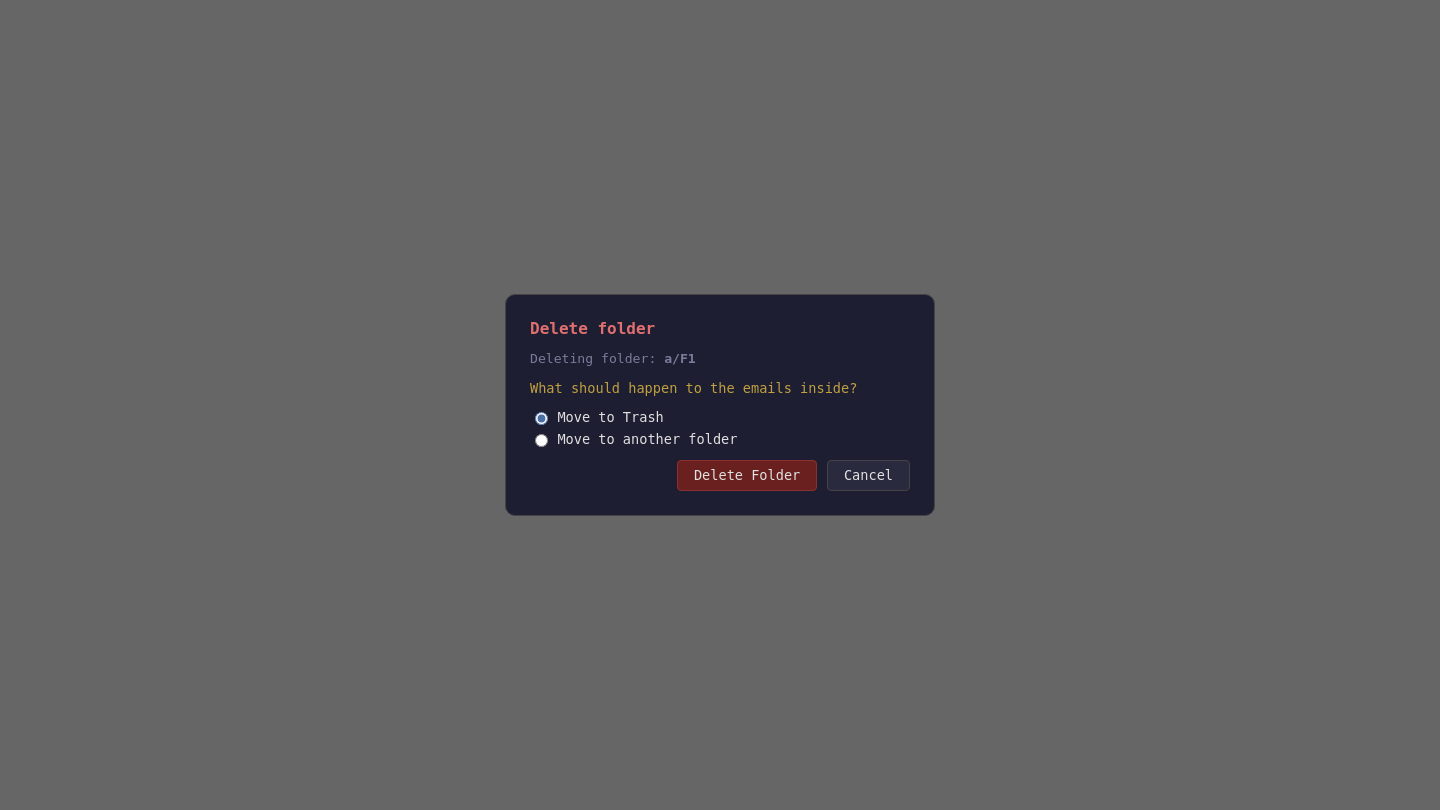
it: FolderDeleteDialog › combobox has aria-expanded attribute
Note: Select "Move to another folder" to show the combobox
Click the radio button showing "move" at (542, 441), box [535,434,548,447]
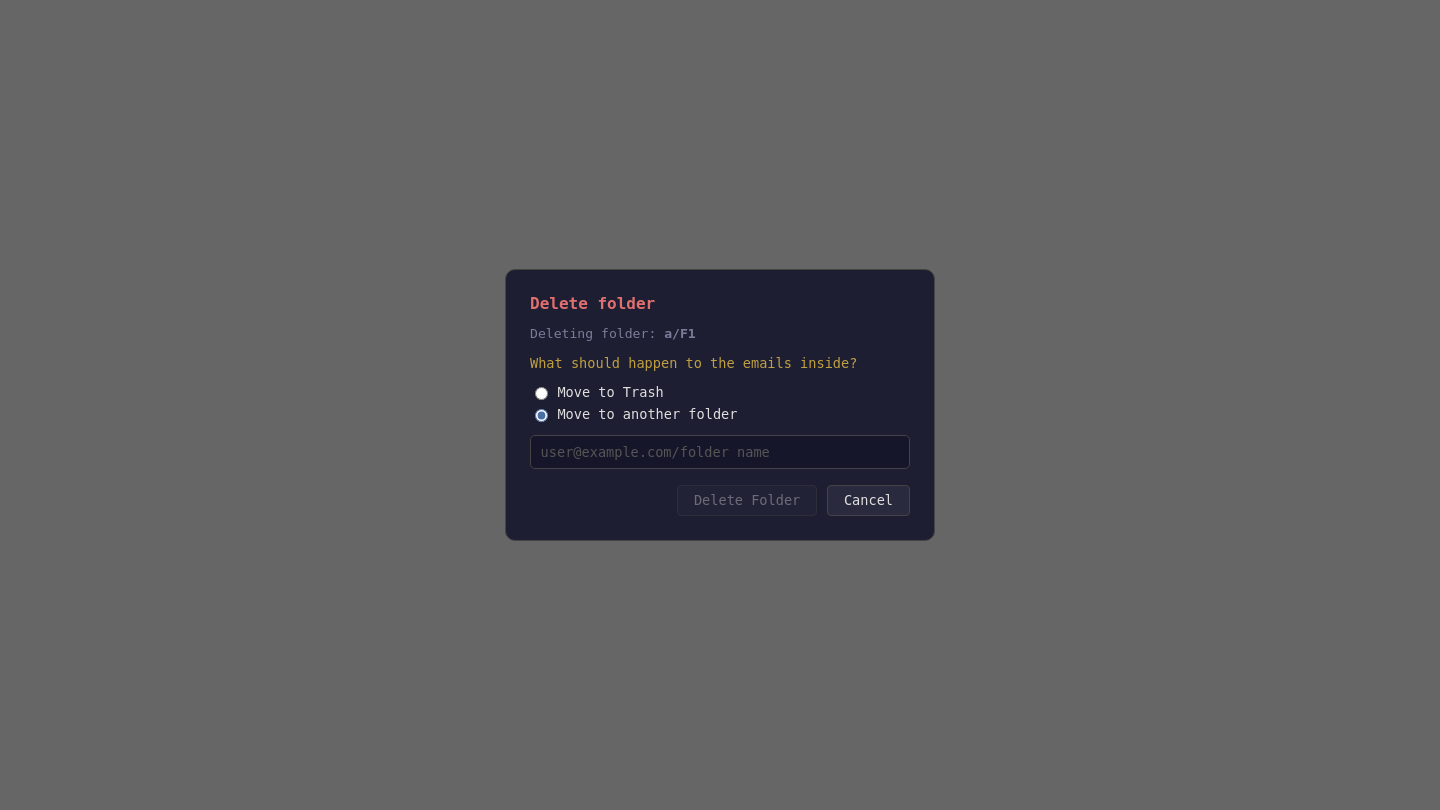
Type "In" into the field with placeholder "user@example.com/folder name" at (720, 452), box [530,435,910,469]
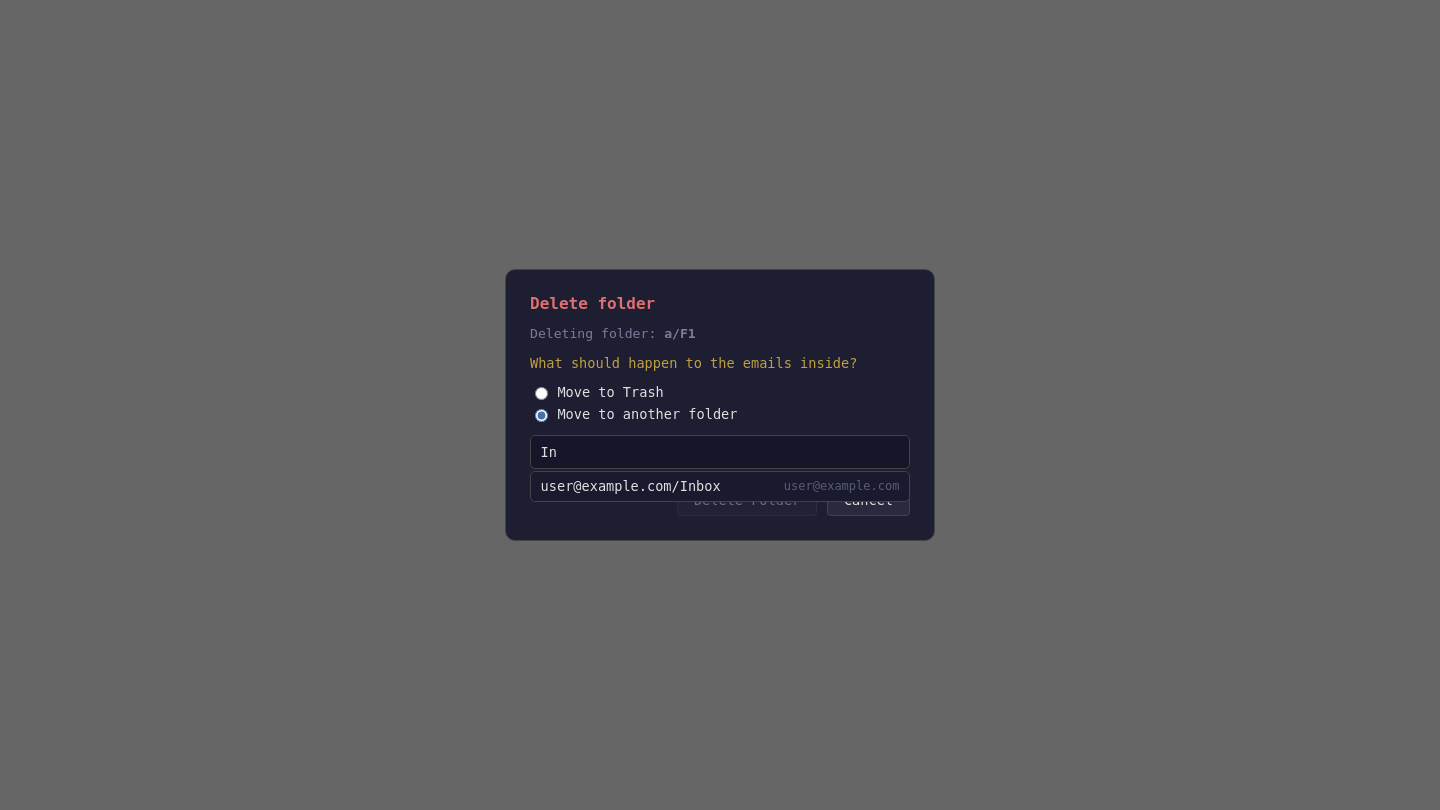
Now the dropdown labelled "user@example.com/Inbox user@example.com" has attribute aria-expanded, box [530,435,910,469]
